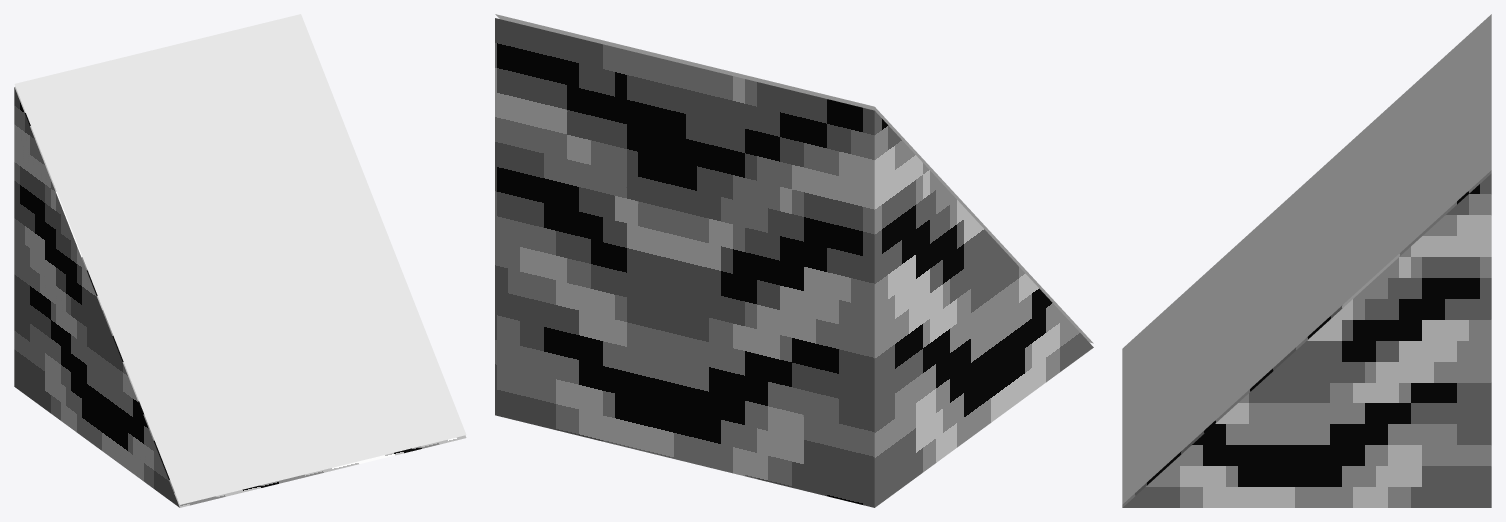
File: slope.fbx
3 renders of one model, left to right at view 1: azimuth 30°, elevation 25°; view 2: azimuth 150°, elevation 25°; view 3: azimuth 270°, elevation 25°, orthographic. The views are drawn at different scales.
Parts seen in each view (by area): view 1: Cube; view 2: Cube; view 3: Cube.
Part boxes in pixels (bbox=[...]): Cube: bbox=[14, 14, 466, 507]; Cube: bbox=[495, 14, 1093, 507]; Cube: bbox=[1122, 14, 1491, 507].
Size of the model in its own units: 100 by 101 by 100.
